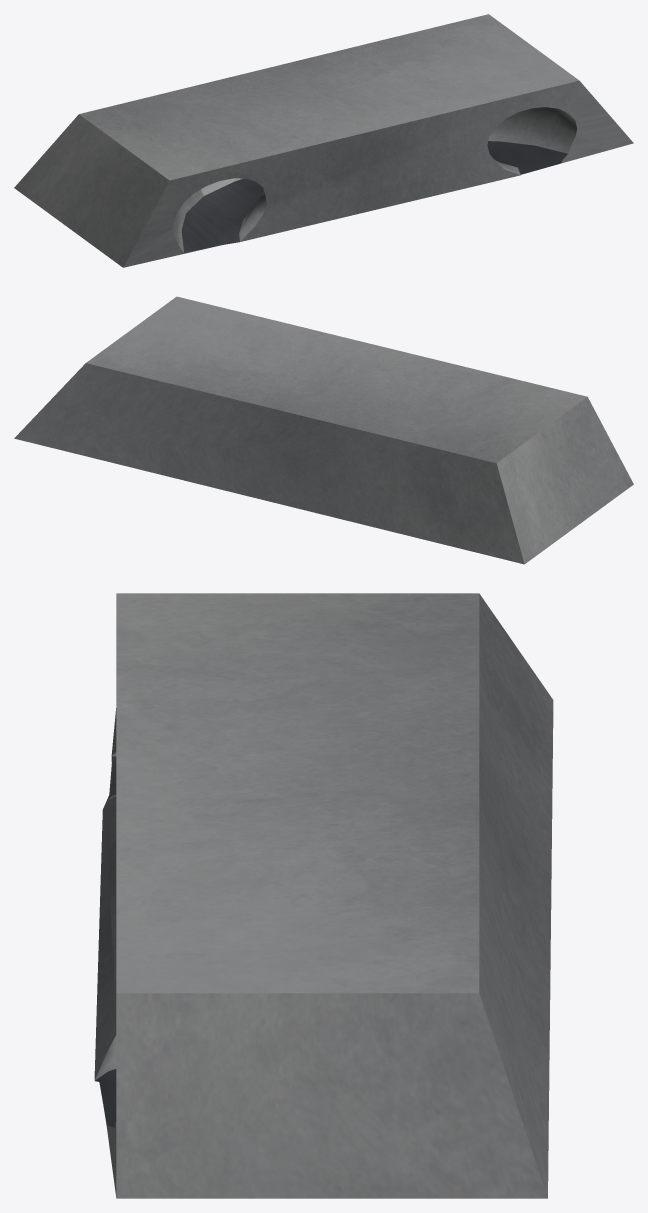
File: tunnel2.fbx
3 views of the same model, one above another, from view 1: azimuth 30°, elevation 25°; view 2: azimuth 150°, elevation 25°; view 3: azimuth 270°, elevation 25° (orthographic). The views are drawn at different scales.
Parts seen in each view (by area): view 1: pCube2; view 2: pCube2; view 3: pCube2.
Part boxes in pixels (left/top/right/bottom): pCube2: left=14, top=14, right=633, bottom=267; pCube2: left=14, top=296, right=633, bottom=564; pCube2: left=94, top=593, right=553, bottom=1198.
Bounding box in the file's own units: 50.15 × 7.14 × 19.51.
2 materials, 2 textured.
